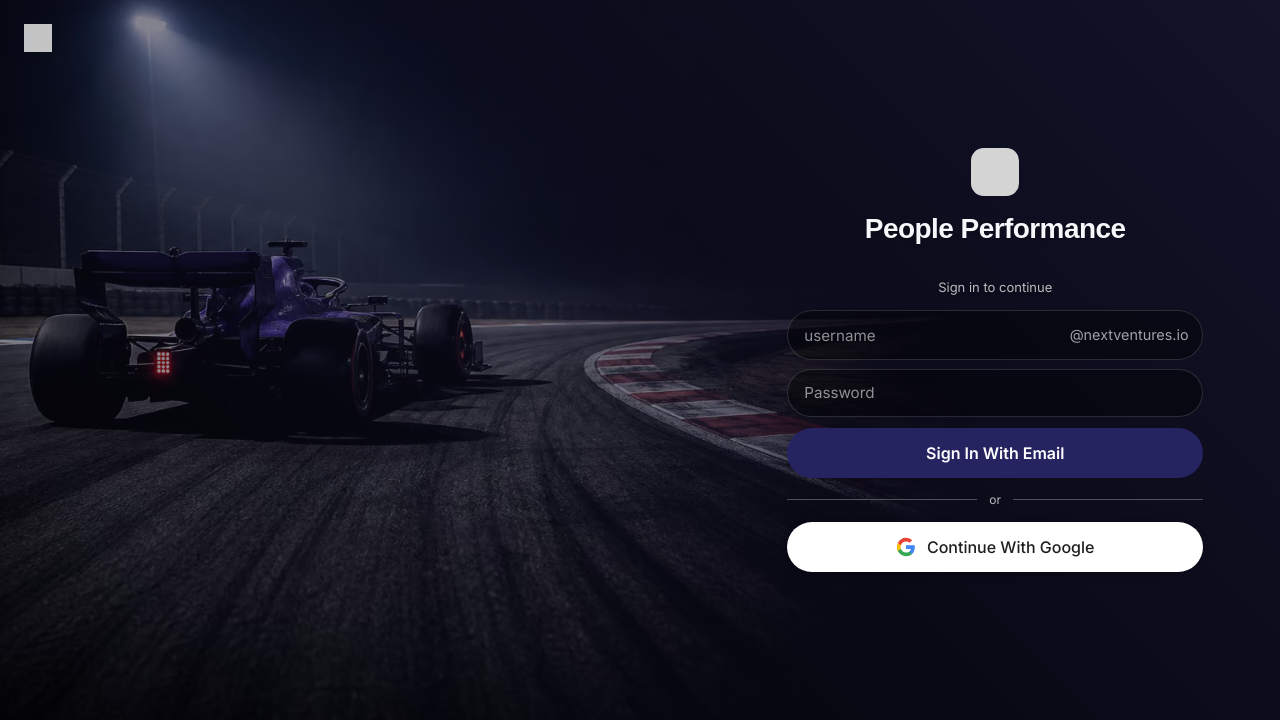
Test: auth route guards › signs in from Continue With Google
Click the button "Continue With Google": (995, 547) [787,522,1203,572]
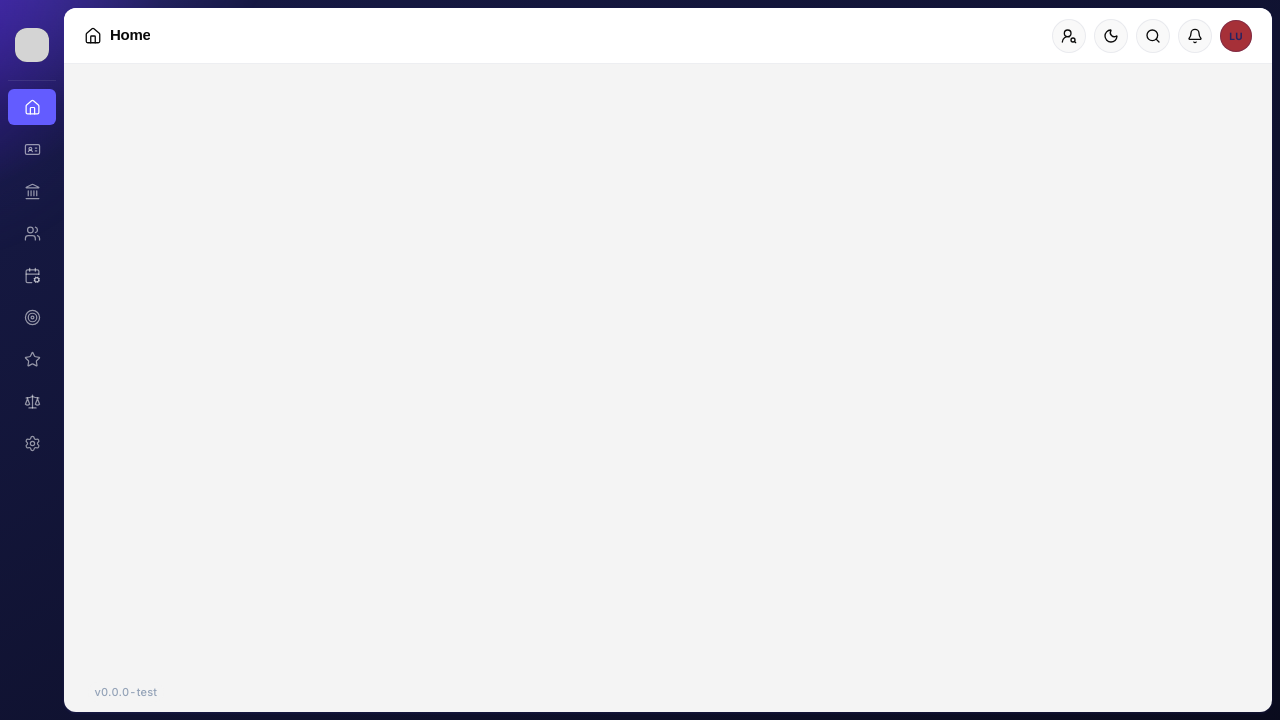
Expected: the element showing "Home LU v0.0.0-test" is shown
Expected: the button "Continue With Google" is gone
